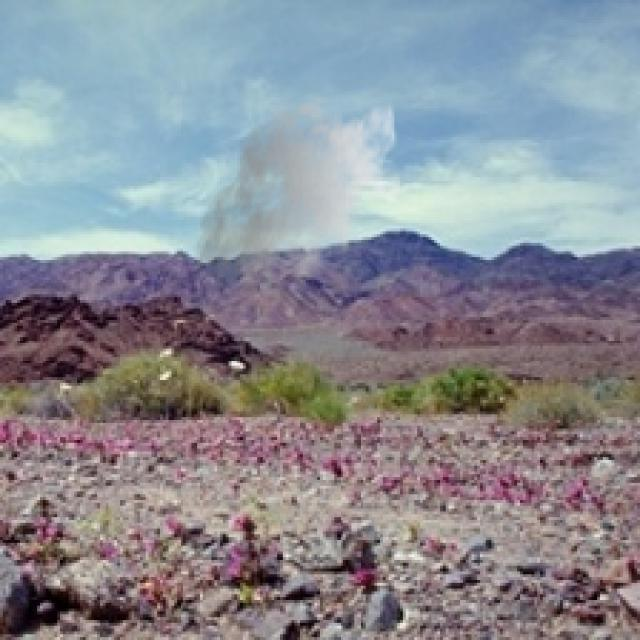Smoke: (194, 92, 403, 314)
